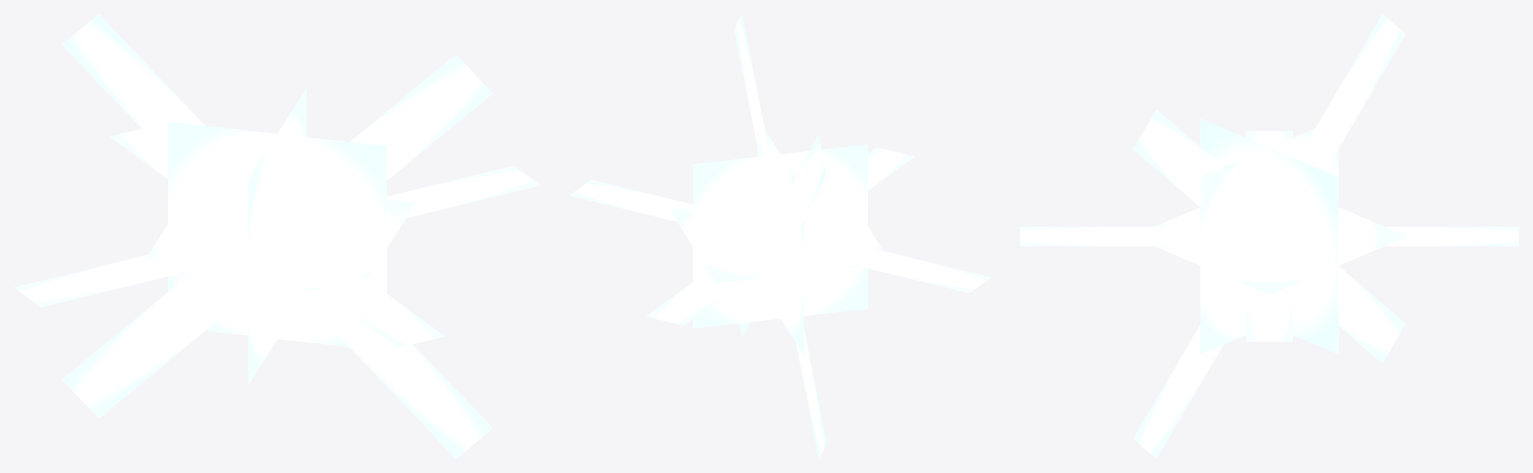
Rendered from sfx_weapon_glorb_A0002_L.glb.
The picture shows the model from 3 angles, left to right: view 1: azimuth 30°, elevation 25°; view 2: azimuth 150°, elevation 25°; view 3: azimuth 270°, elevation 25°; orthographic projection. The views are drawn at different scales.
Visible parts, largest first — view 1: sfx_weapon_glorb_A0002_L_obj1; view 2: sfx_weapon_glorb_A0002_L_obj1; view 3: sfx_weapon_glorb_A0002_L_obj1.
Part boxes in pixels (<box>): sfx_weapon_glorb_A0002_L_obj1: <box>14,14,540,458</box>; sfx_weapon_glorb_A0002_L_obj1: <box>570,14,990,458</box>; sfx_weapon_glorb_A0002_L_obj1: <box>1020,14,1518,458</box>.
Bounding box in the file's own units: 0.7945 × 0.6146 × 0.7945.
Materials: 1 (1 with a texture image).
